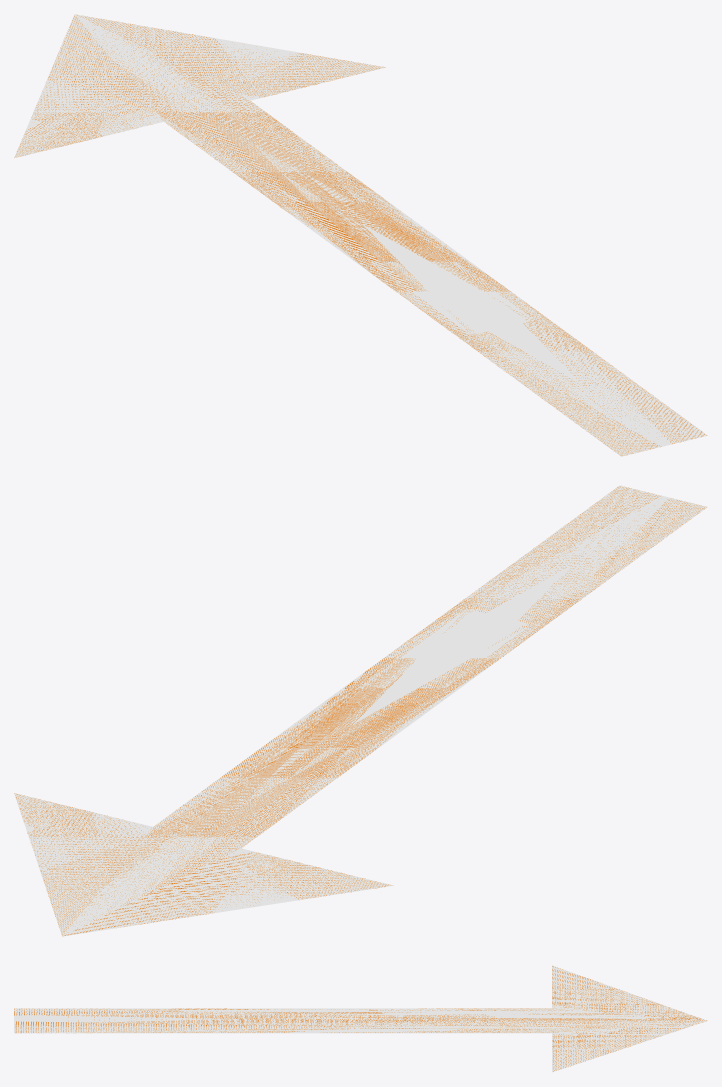
File: orangearrow.dae
3 renders of one model, top to bottom at view 1: azimuth 30°, elevation 25°; view 2: azimuth 150°, elevation 25°; view 3: azimuth 270°, elevation 25°, orthographic. The views are drawn at different scales.
Parts seen in each view (by area): view 1: SketchUp; view 2: SketchUp; view 3: SketchUp.
Part boxes in pixels (x1,y1,x2,y2): SketchUp: (14, 14, 707, 456); SketchUp: (14, 485, 707, 936); SketchUp: (14, 965, 707, 1072).
Bounding box in the file's own units: 168 × 462 × 0.
